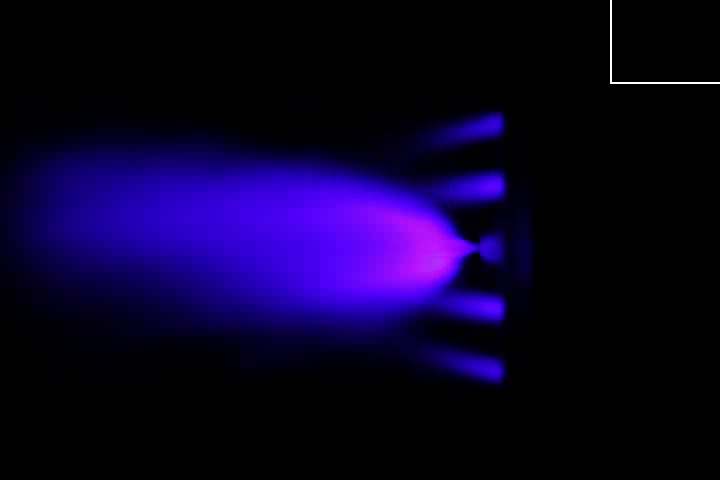burner cap: (479, 230, 512, 277)
pilot flame: (412, 340, 504, 384), (422, 289, 505, 331), (425, 111, 508, 149), (422, 168, 508, 204)
unstable: (344, 197, 477, 287)
